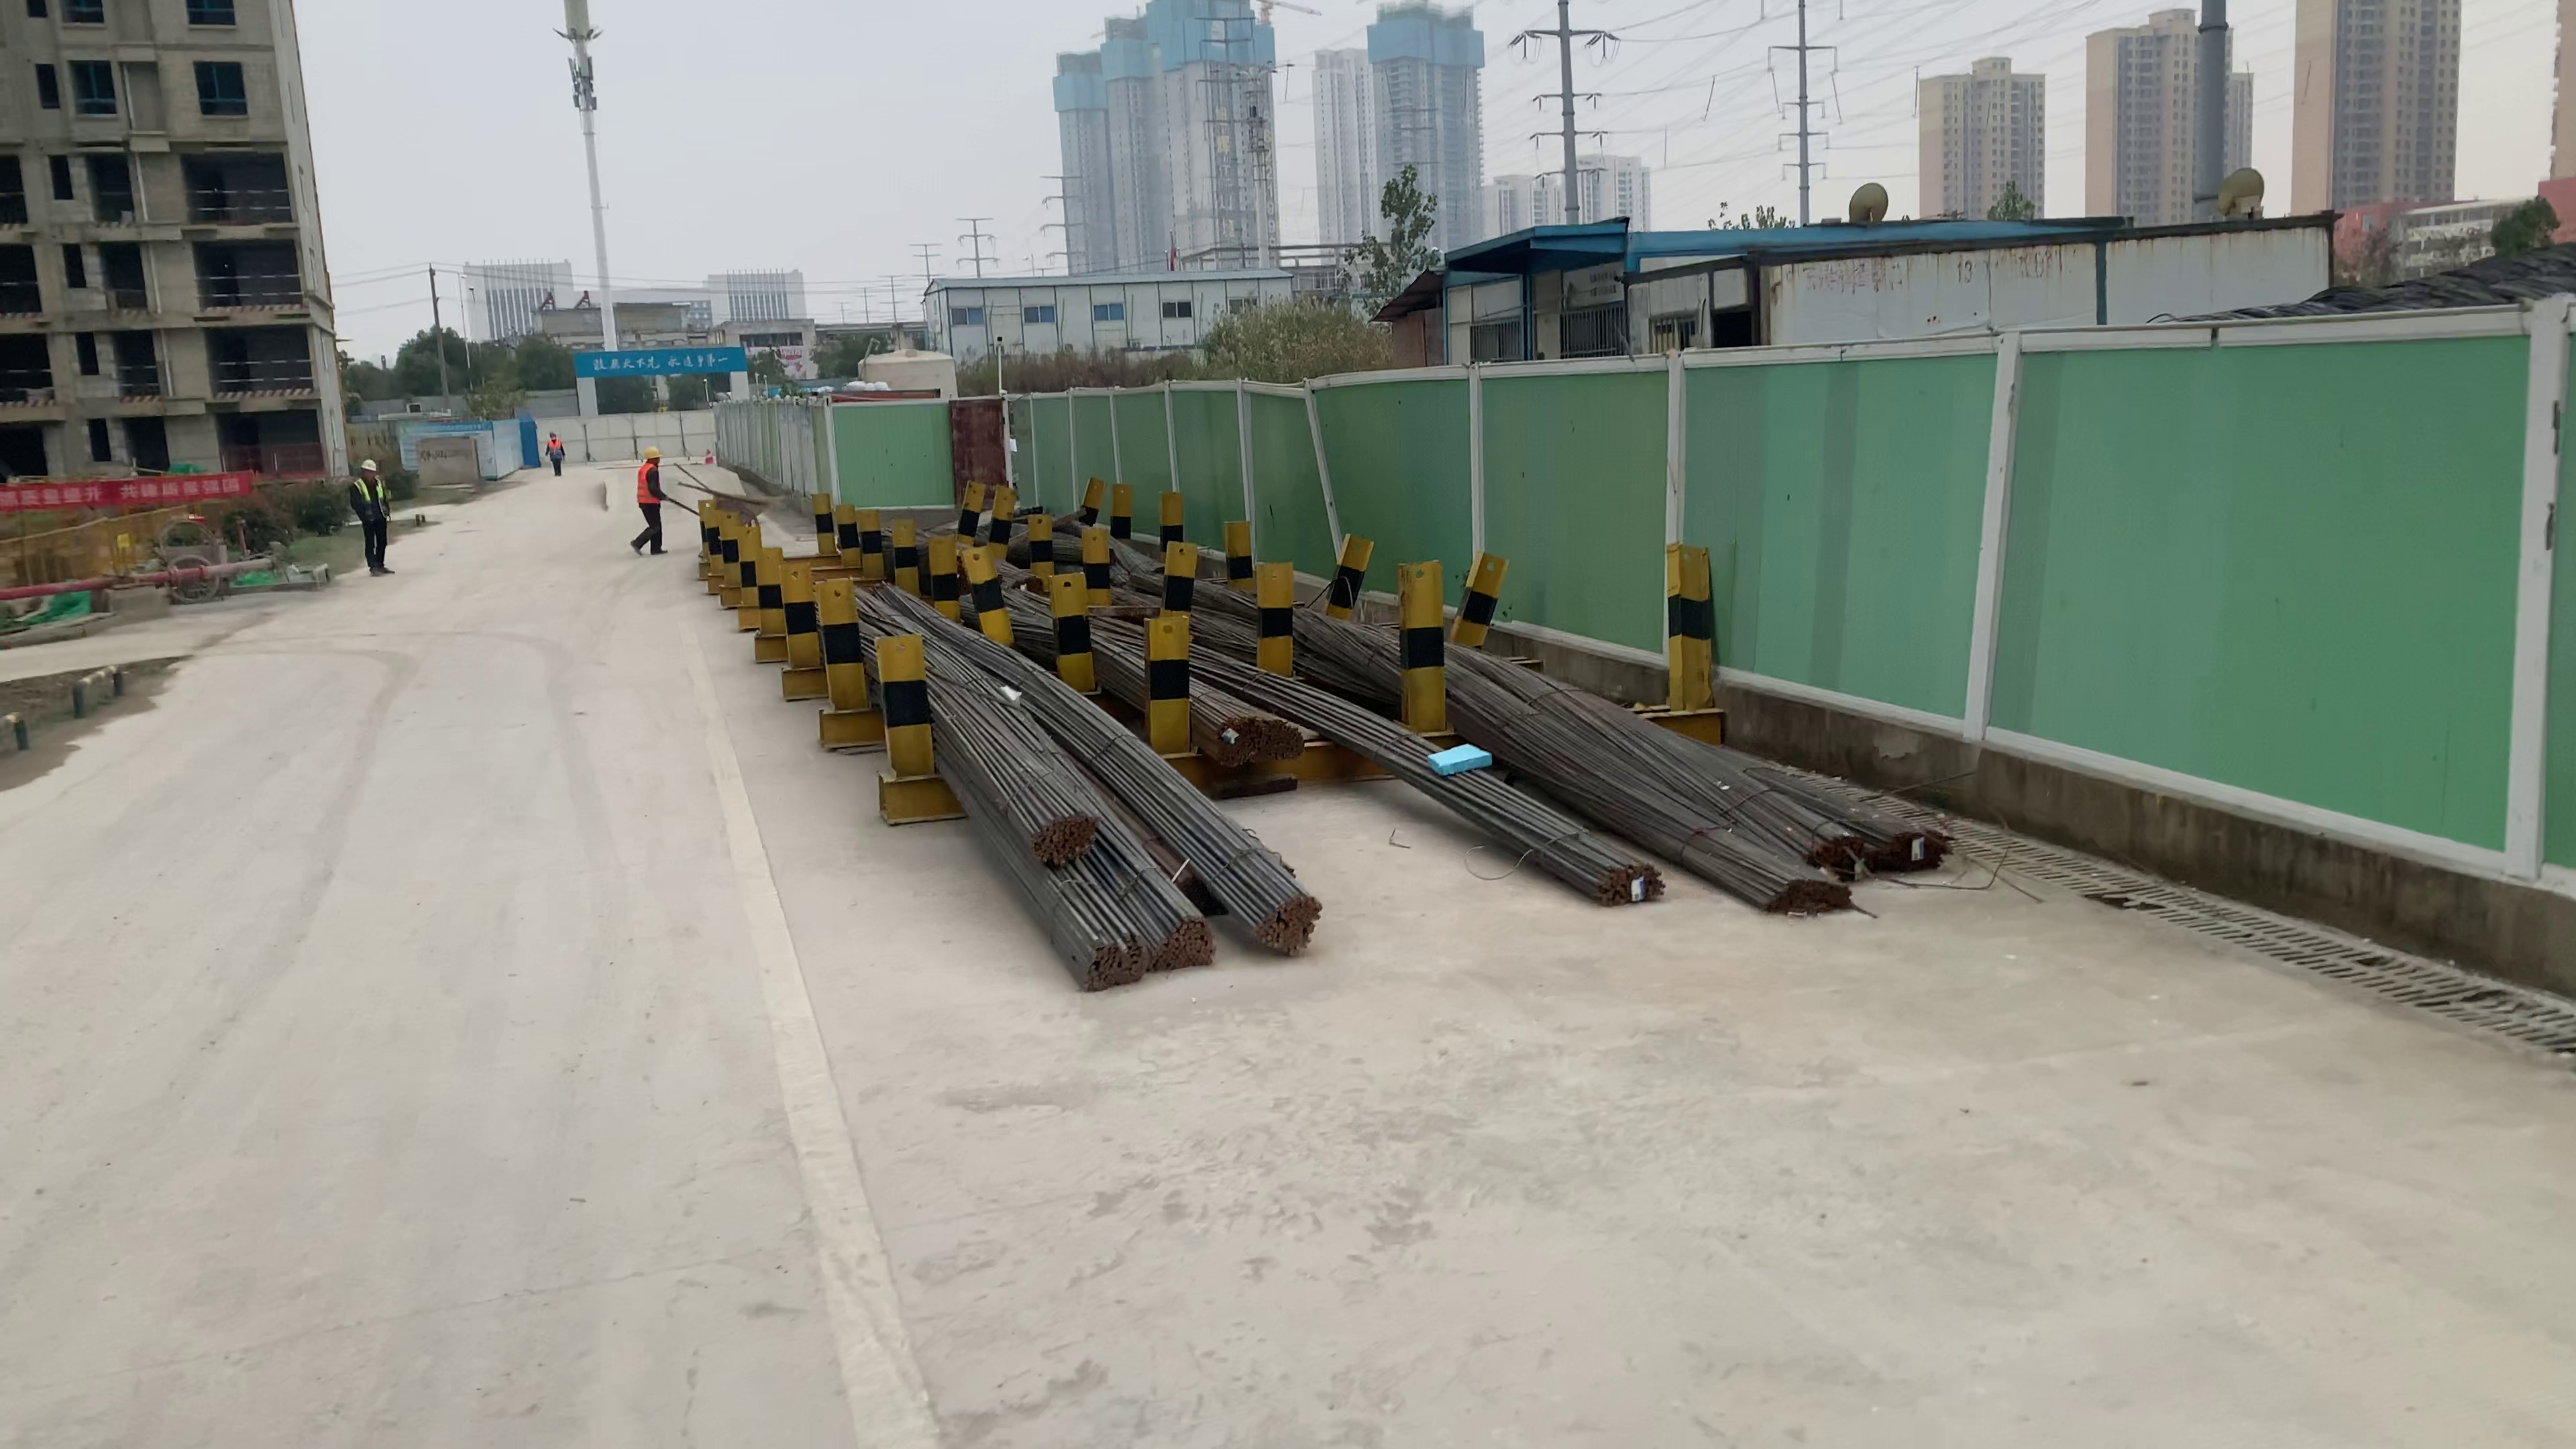rebar: (1023, 809, 1106, 867), (1251, 890, 1325, 952), (1076, 934, 1148, 987), (1598, 858, 1675, 906), (1764, 879, 1852, 920), (1152, 916, 1215, 971), (1882, 830, 1948, 872), (1210, 717, 1258, 768), (1810, 833, 1872, 869), (1263, 725, 1313, 766)
